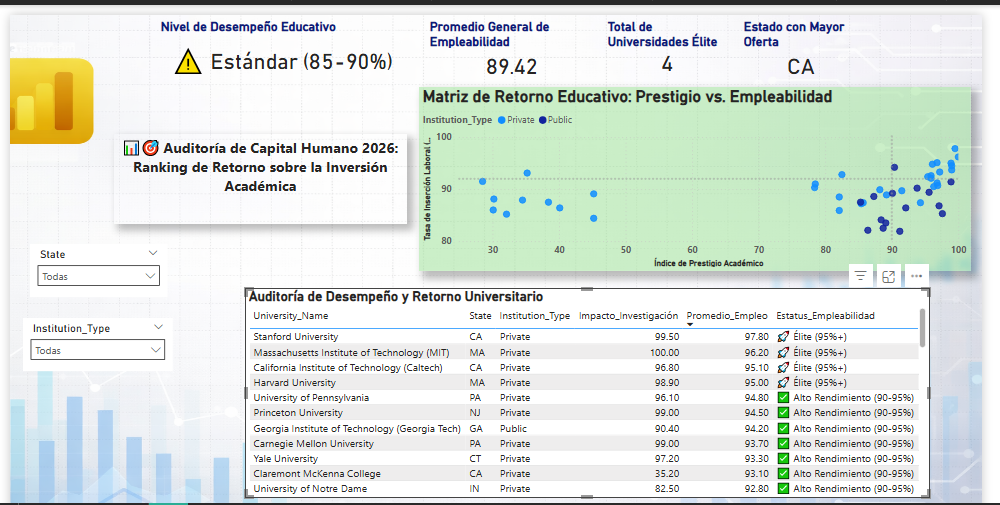

The dashboard page shown, as its layout file describes it:
{"tool":"powerbi","page":{"name":"Dashboard 2026","canvas":[1280,720],"ordinal":0},"visuals":[{"type":"scatterChart","title":"Matriz de Retorno Educativo: Prestigio vs. Empleabilidad","fields":{"X":["Avg(US_Top_50_Universities_20265.Research_Impact_Score)"],"Y":["Avg(US_Top_50_Universities_20265.Employment_Rate)"],"Category":["US_Top_50_Universities_20265.University_Name"],"Series":["US_Top_50_Universities_20265.Institution_Type"]},"box":[537.8,94.6,725.7,241.9],"z":0},{"type":"tableEx","title":"Auditoría de Desempeño y Retorno Universitario","fields":{"Values":["US_Top_50_Universities_20265.University_Name","US_Top_50_Universities_20265.State","US_Top_50_Universities_20265.Institution_Type","_MisMedidas.Impacto_Investigación","_MisMedidas.Promedio_Empleo","_MisMedidas.Estatus_Empleabilidad"]},"box":[309.5,359.5,901.4,275.7],"z":1000},{"type":"slicer","fields":{"Values":["State3.State"]},"box":[25.7,301.4,181.1,70.3],"z":2000},{"type":"slicer","fields":{"Values":["Institutíon_Type2.Institution_Type"]},"box":[17.6,398.6,197.3,70.3],"z":3000},{"type":"card","title":"Promedio General de Empleabilidad","fields":{"Values":["_MisMedidas.Promedio_Empleo"]},"box":[547.3,5.4,225.7,82.4],"z":4000},{"type":"card","title":"Total de Universidades Élite","fields":{"Values":["_MisMedidas.Total_Elite"]},"box":[781.1,5.4,166.2,75.7],"z":5000},{"type":"card","title":"Estado con Mayor Oferta","fields":{"Values":["_MisMedidas.Estado_Lider"]},"box":[960.8,5.4,160.8,83.8],"z":6000},{"type":"card","title":"Nivel de Desempeño Educativo","fields":{"Values":["_MisMedidas.Estatus_Empleabilidad"]},"box":[193.2,5.4,328.4,89.2],"z":7000},{"type":"textbox","box":[136.5,156.8,385.1,117.6],"z":8000}]}

Visuals, with their boxes on the page's 1280x720 design canvas (x1, y1, x2, y2). These are canvas units, not pixel positions in the 1000x505 screenshot, which may show the page scaled, cropped or inside an application window:
"Matriz de Retorno Educativo: Prestigio vs. Empleabilidad" scatterChart: region(538, 95, 1264, 336)
"Auditoría de Desempeño y Retorno Universitario" tableEx: region(310, 360, 1211, 635)
slicer - State3.State: region(26, 301, 207, 372)
slicer - Institutíon_Type2.Institution_Type: region(18, 399, 215, 469)
"Promedio General de Empleabilidad" card: region(547, 5, 773, 88)
"Total de Universidades Élite" card: region(781, 5, 947, 81)
"Estado con Mayor Oferta" card: region(961, 5, 1122, 89)
"Nivel de Desempeño Educativo" card: region(193, 5, 522, 95)
textbox: region(136, 157, 522, 274)
